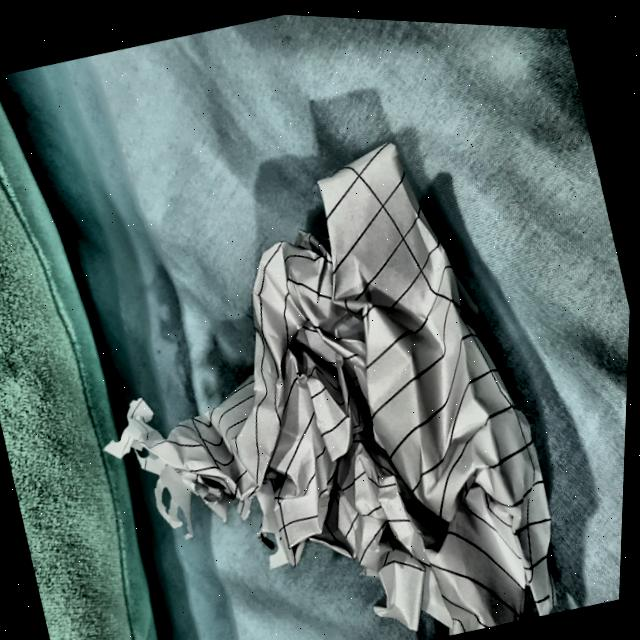paper: (23, 69, 597, 640)
